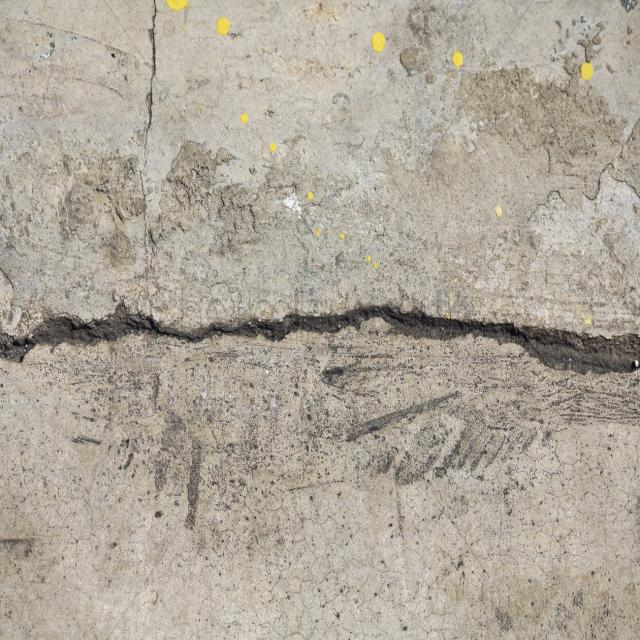Wall_Cracks: (3, 231, 638, 482), (116, 0, 177, 220)
